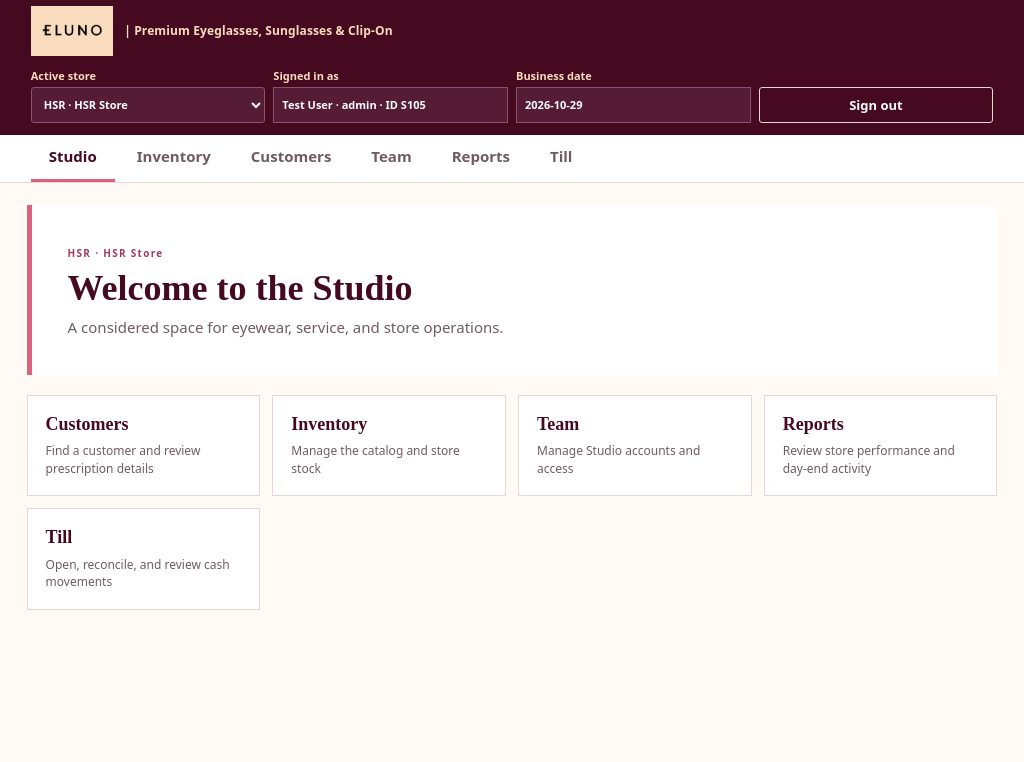
Scenario: browser POS workflows › keeps the edit dialog open and reports a catalog update failure
Click the button "Inventory" at (174, 158), box [119,135,229,182]
(page scrolled)
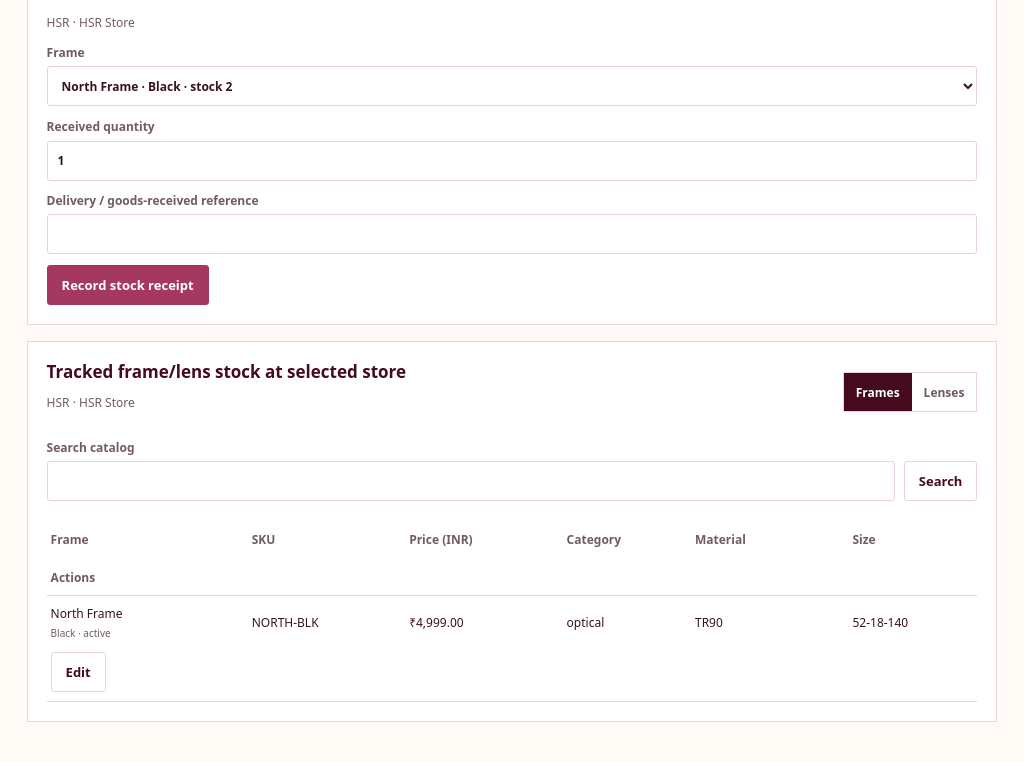
Click the button with aria-label "Edit North Frame" at (78, 672), box [51,652,106,692]
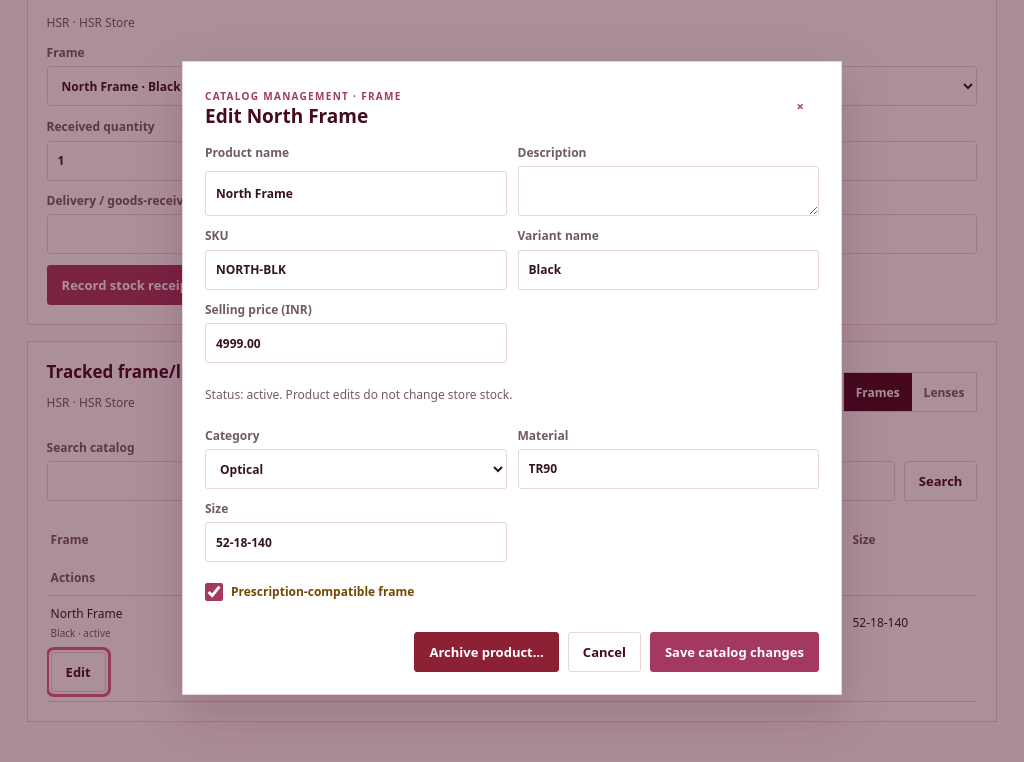
Click the button "Save catalog changes" at (734, 652), box [650,632,819,672]
(page scrolled)
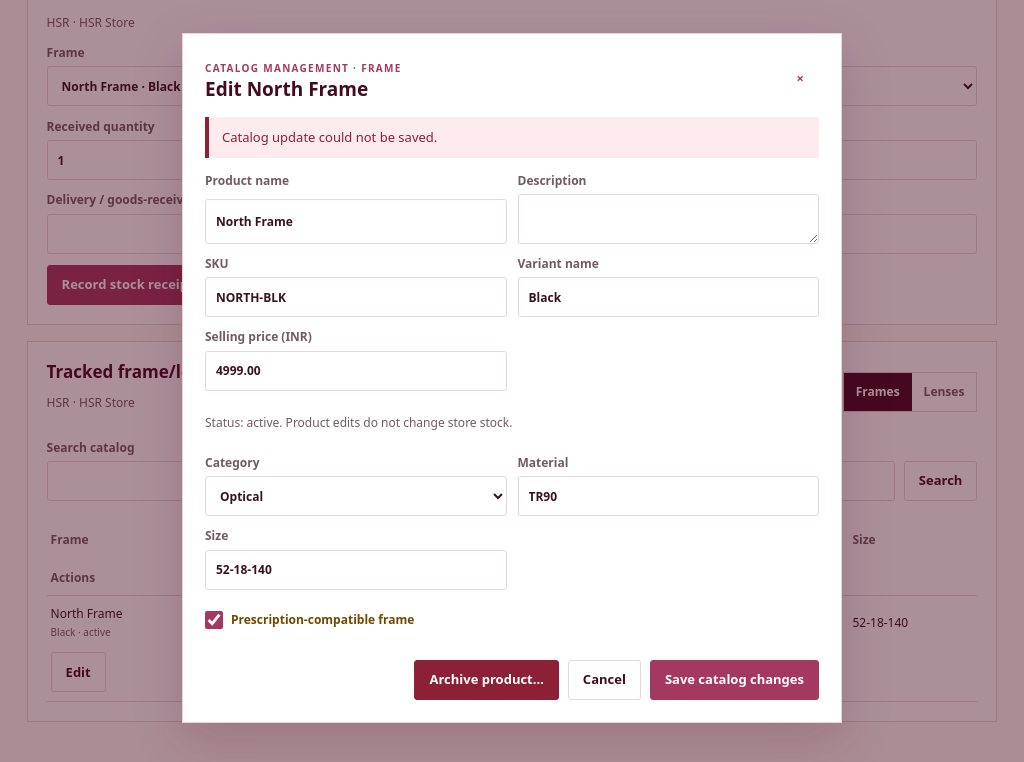
Check: the dialog "Edit North Frame" is shown, box [182,33,842,723]
Check: the button "Save catalog changes" is enabled, box [650,660,819,700]
Check: the message reads "Catalog update could not be saved.", box [222,128,437,146]
